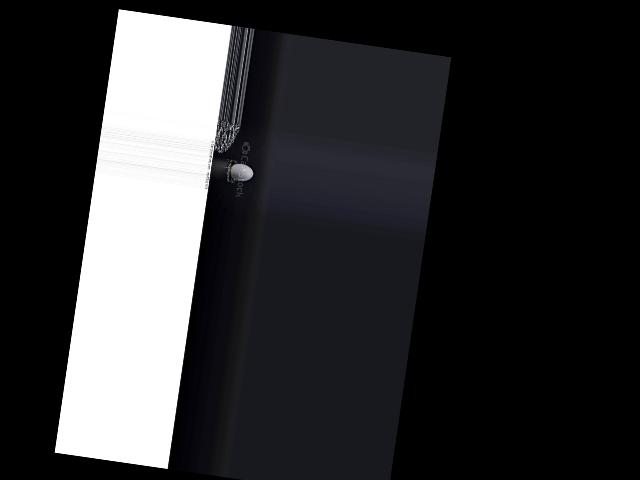egg: (228, 162, 253, 183)
